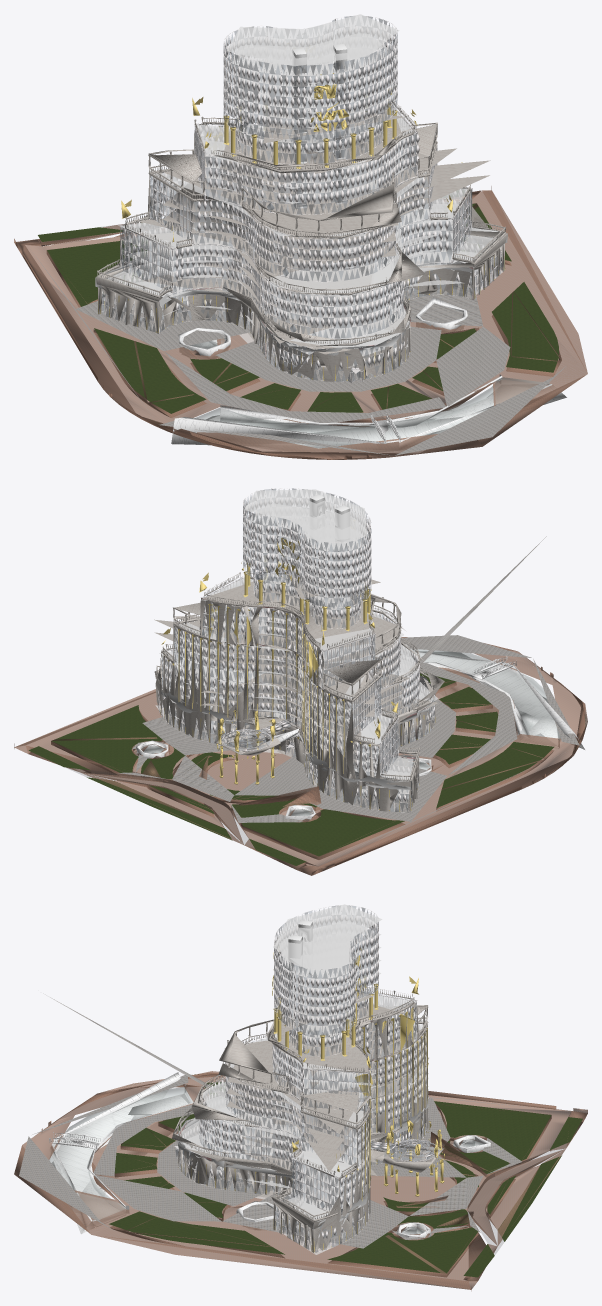
File: casino_tower.glb
3 views of the same model, one above another, from view 1: azimuth 30°, elevation 25°; view 2: azimuth 150°, elevation 25°; view 3: azimuth 270°, elevation 25° (orthographic). The views are drawn at different scales.
Parts seen in each view (by area): view 1: bld; view 2: bld; view 3: bld.
Boxes of the visible parts, x1=… form: bld: x1=14, y1=14, x2=587, y2=459; bld: x1=14, y1=488, x2=587, y2=875; bld: x1=14, y1=904, x2=587, y2=1291.
Bounding box in the file's own units: 117 × 64.37 × 132.
Materials: 20 (10 with a texture image).
